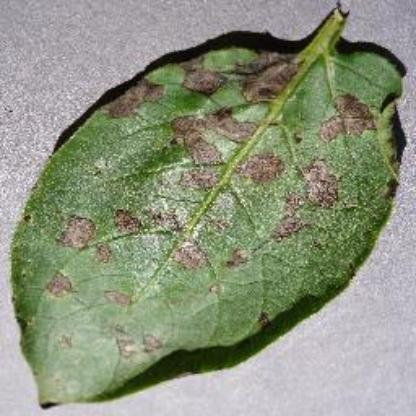Early-Blight: (10, 13, 406, 409)
